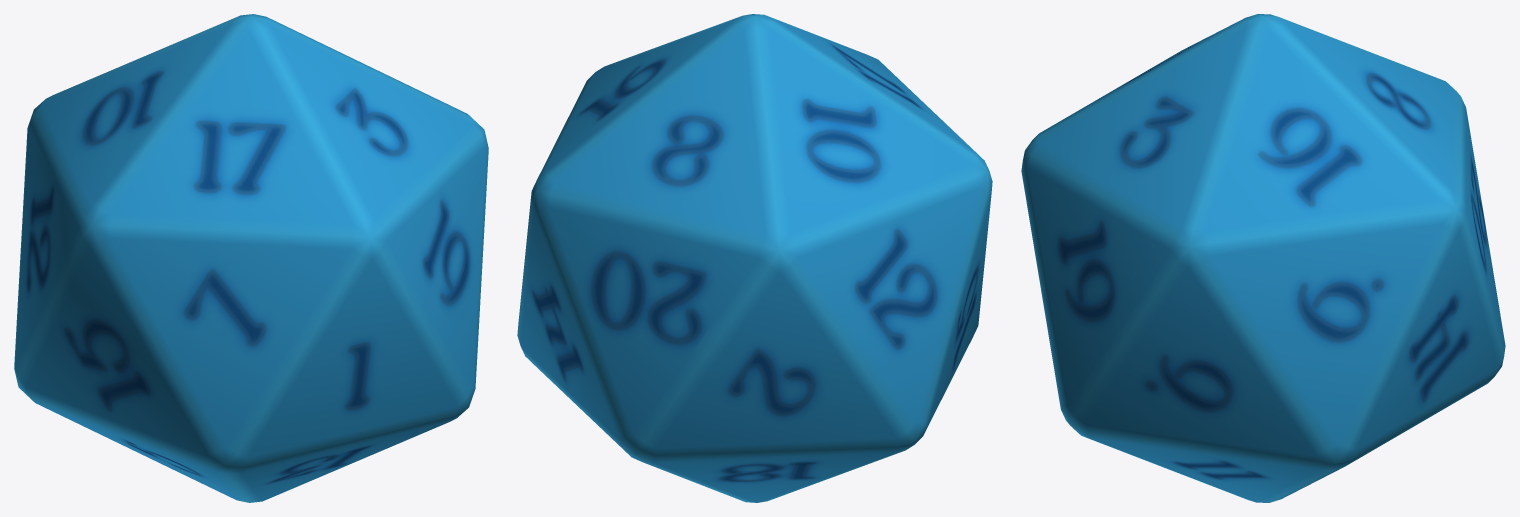
The model's file is D20_blue.obj.
3 views of the same model, side by side, from view 1: azimuth 30°, elevation 25°; view 2: azimuth 150°, elevation 25°; view 3: azimuth 270°, elevation 25° (orthographic).
Visible parts, largest first — view 1: D20_blue; view 2: D20_blue; view 3: D20_blue.
Part boxes in pixels (x1,y1,x2,y2): D20_blue: (14, 14, 488, 502); D20_blue: (517, 14, 992, 502); D20_blue: (1021, 14, 1505, 502).
Bounding box in the file's own units: 0.8402 × 0.9648 × 0.8757.
1 material, 1 textured.
